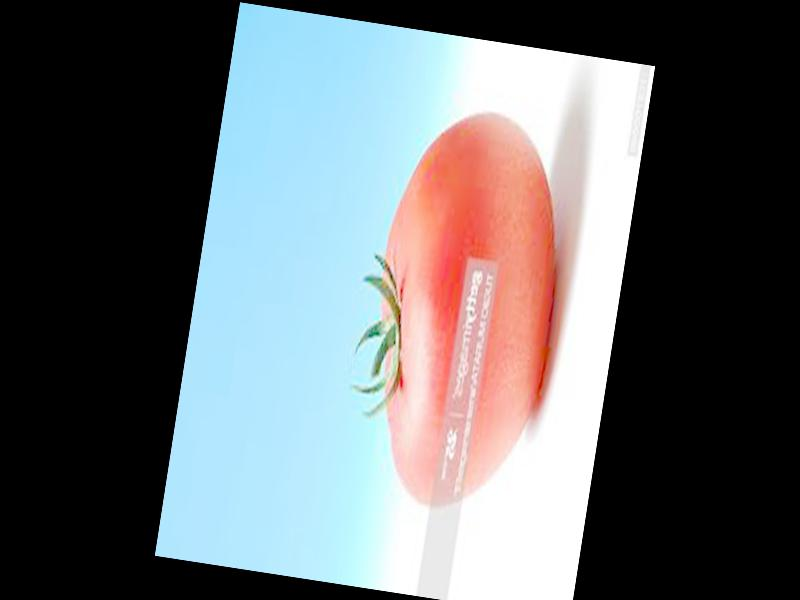Tomato: (349, 103, 578, 522)
